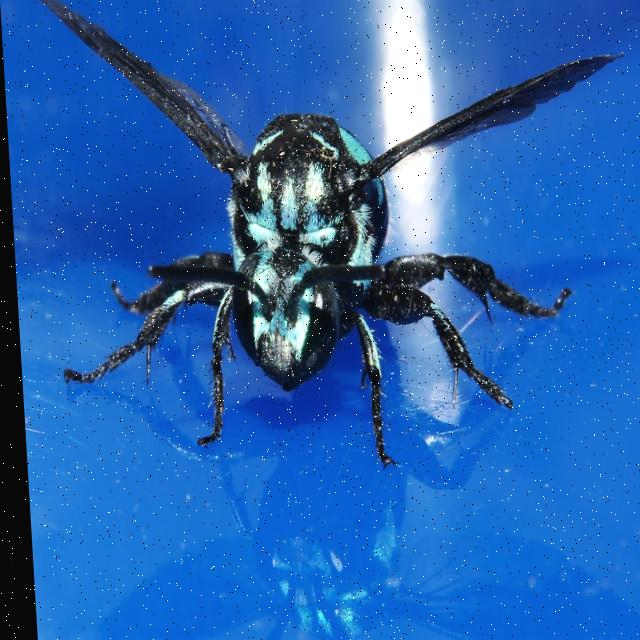Thyreus: (29, 0, 640, 483)
